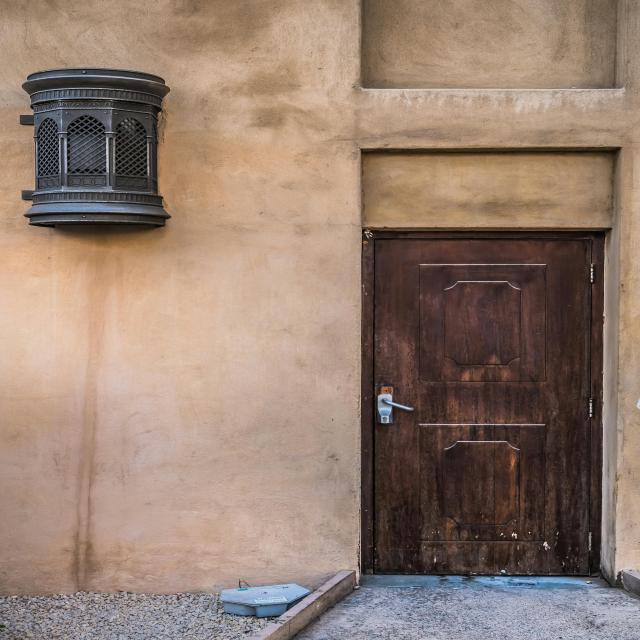door-handle: (382, 399, 414, 411)
